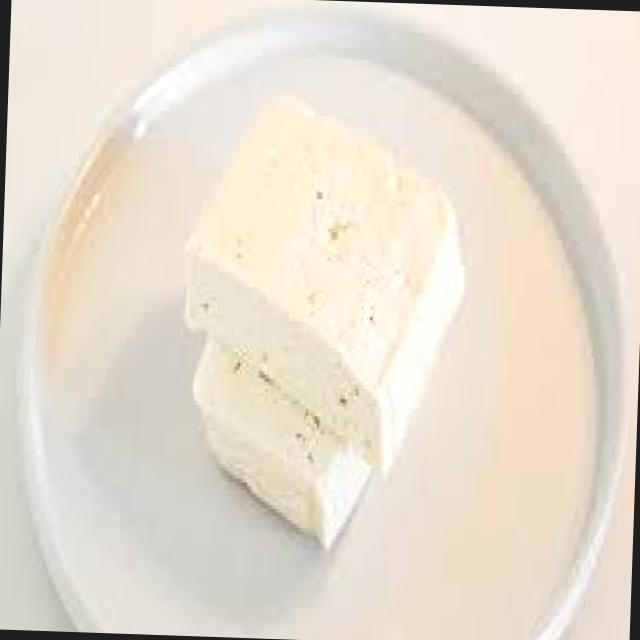tof: (171, 80, 479, 564)
